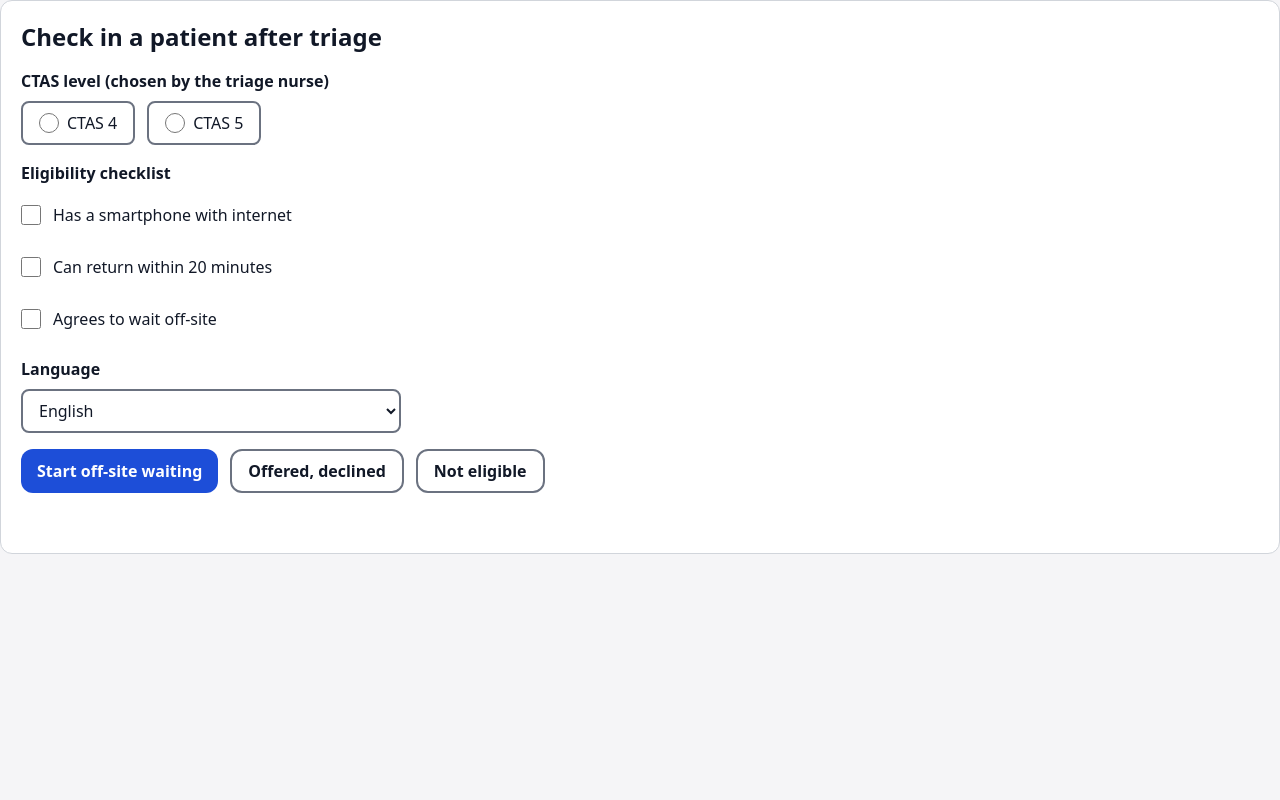
Scenario: CheckInPanel language after a check-in › sets the language back to English after a check-in saves, for the next patient
The width and height of the screenshot is (1280, 800).
Click the radio button labelled "CTAS 4" at [49, 123], box [39, 113, 59, 133]
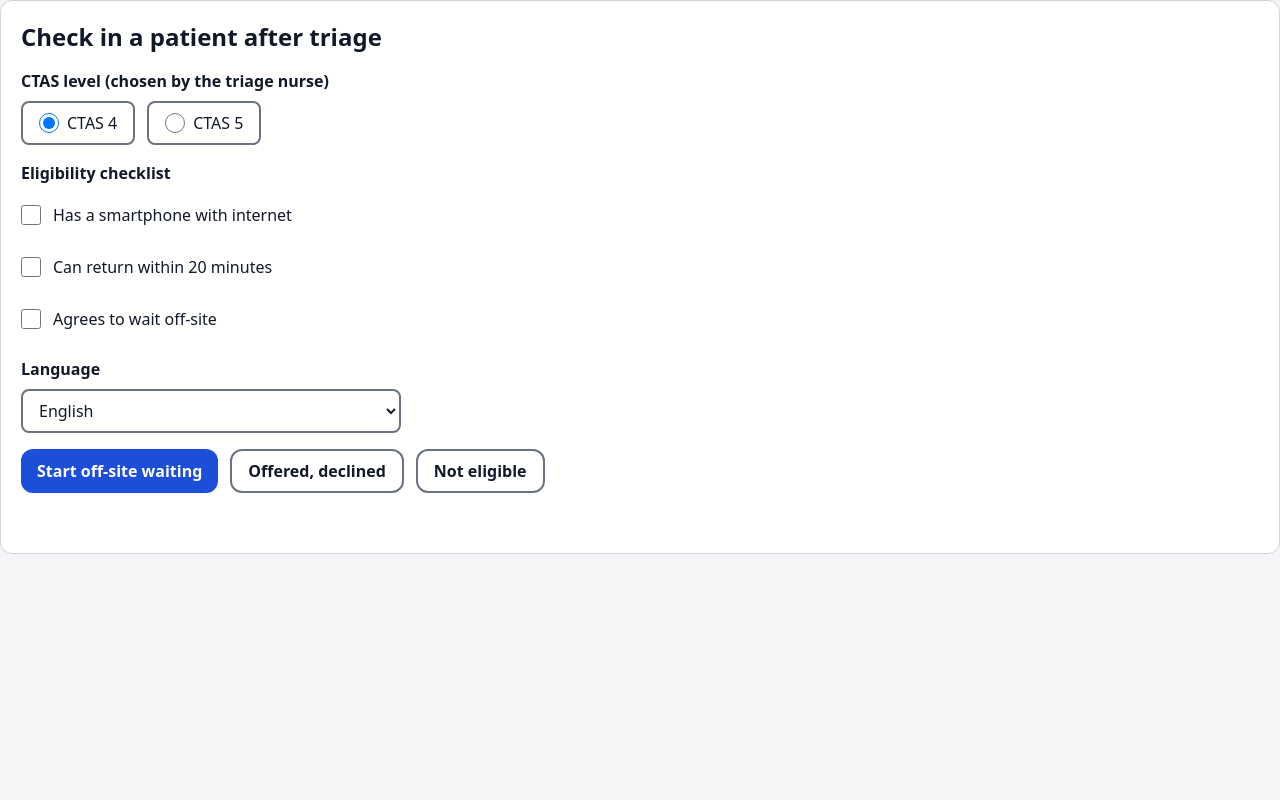
Click the checkbox labelled "Has a smartphone with internet" at [31, 215], box [21, 205, 41, 225]
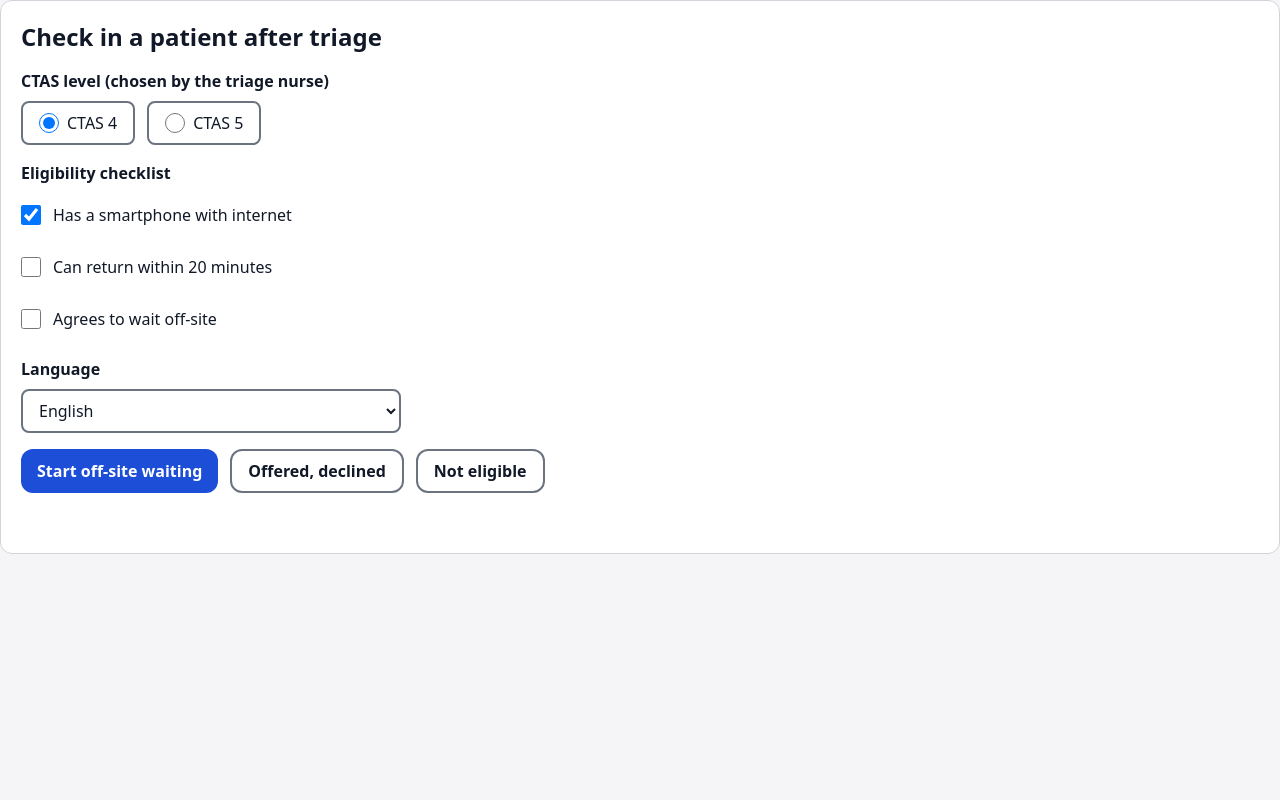
Click the checkbox labelled "Can return within 20 minutes" at [31, 267], box [21, 257, 41, 277]
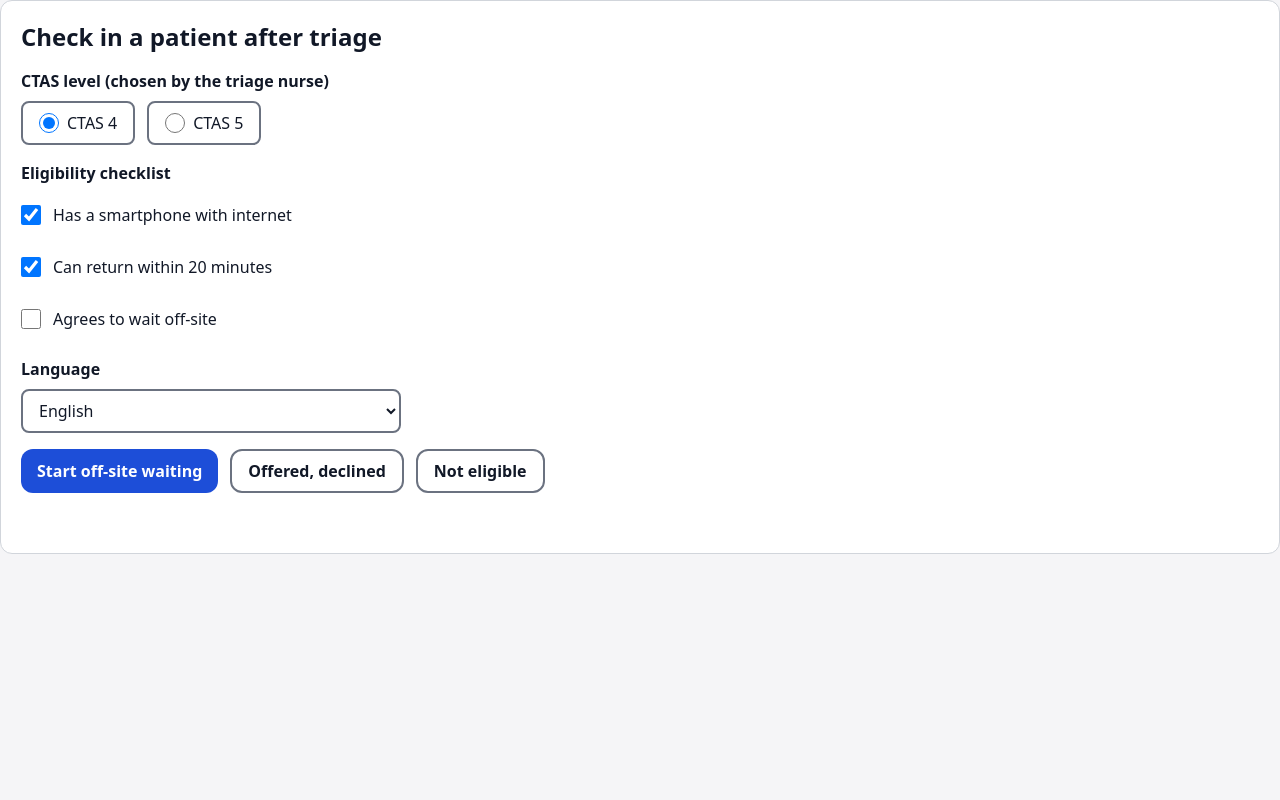
Click the checkbox labelled "Agrees to wait off-site" at [31, 319], box [21, 309, 41, 329]
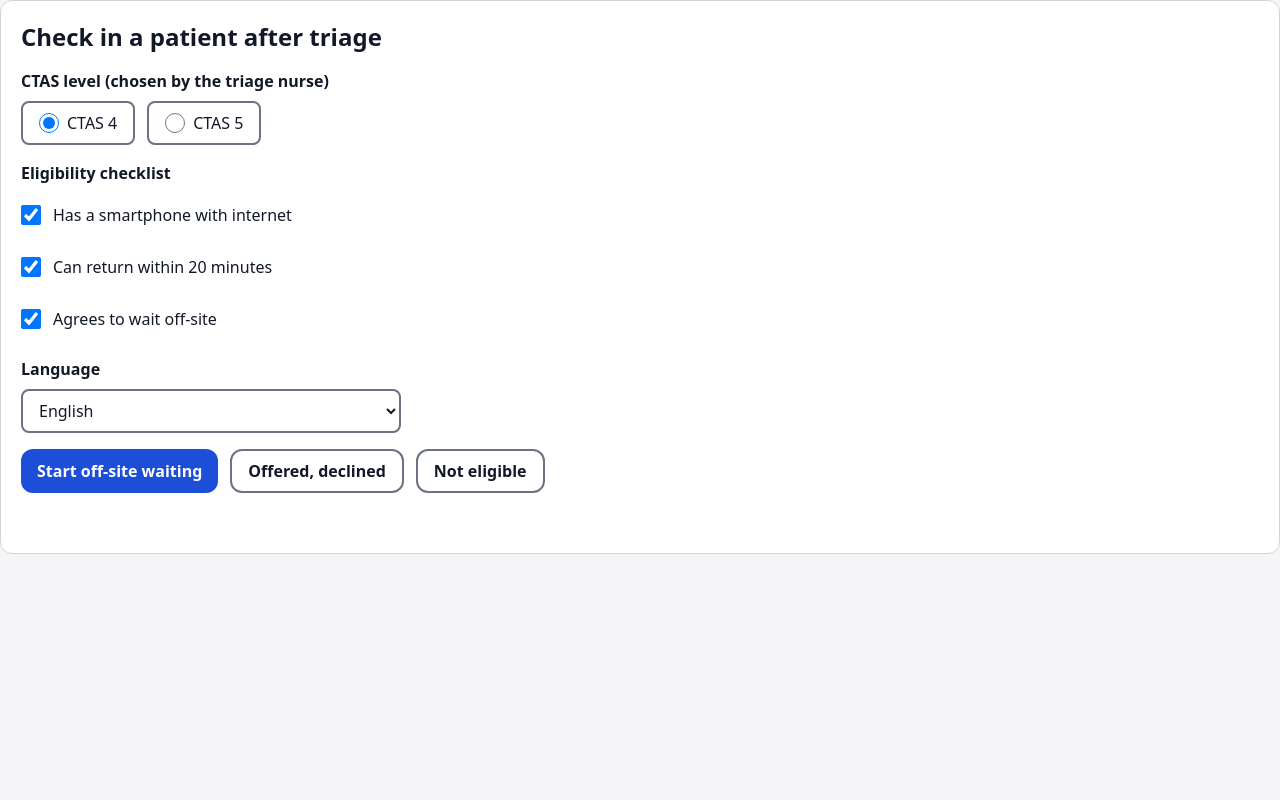
Select "Français (French), draft until checked" in the dropdown labelled "Language" at [211, 411], box [21, 389, 401, 433]
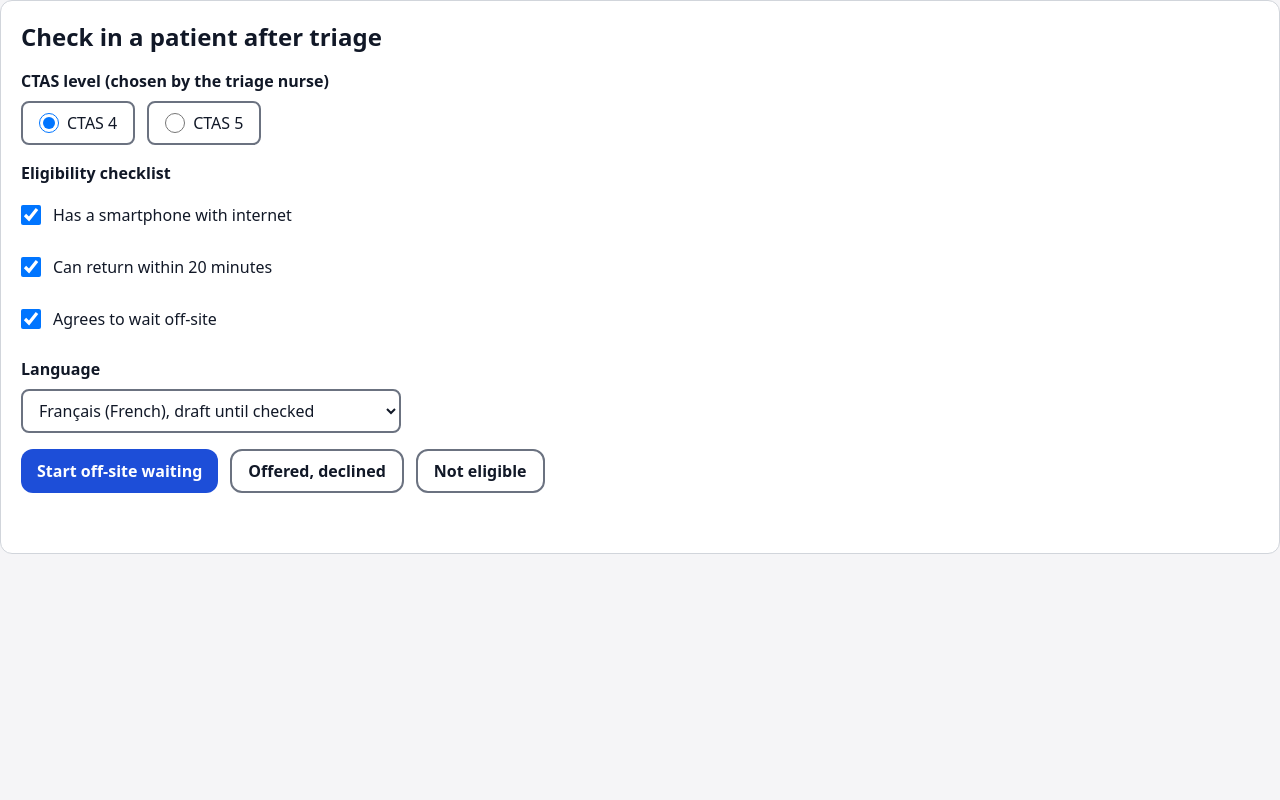
Click the button "Not eligible" at [480, 471], box [416, 449, 544, 493]
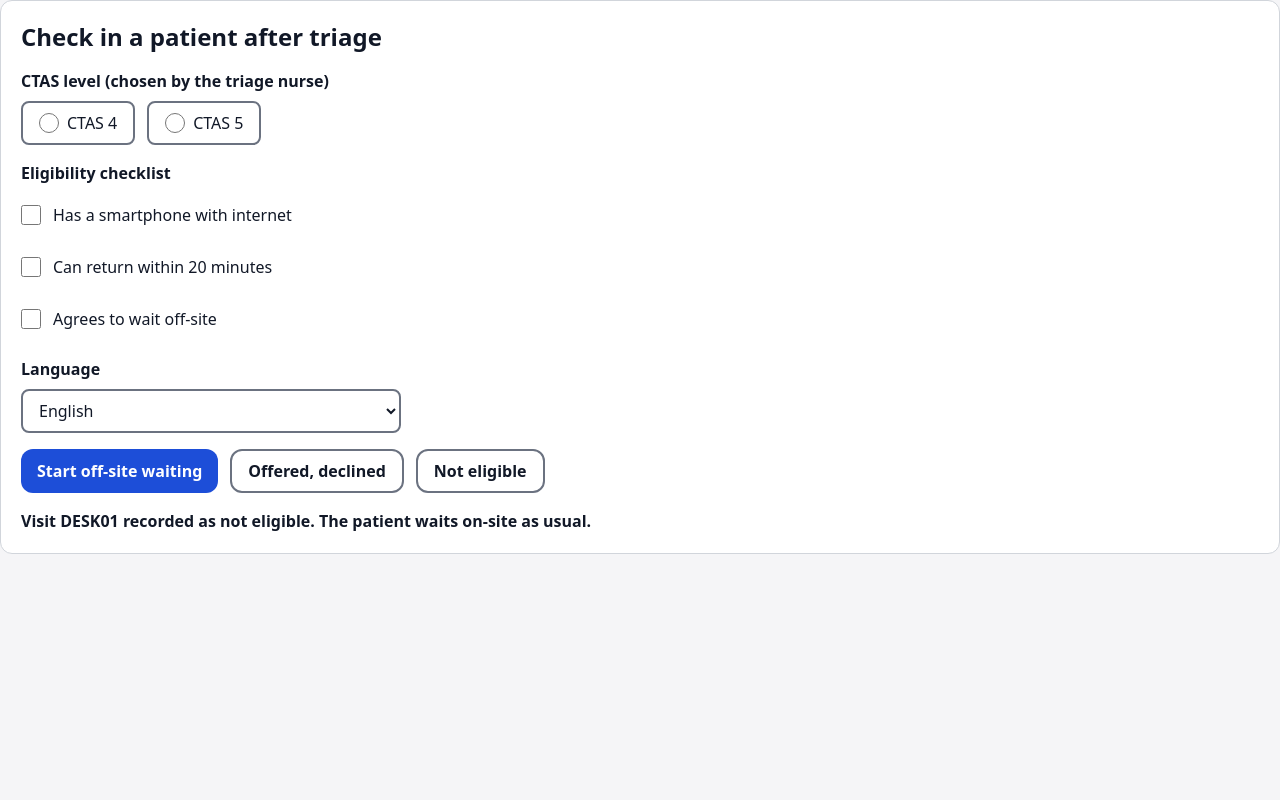
Check: the message "Visit DESK01 recorded as not eligible. The patient waits on-site as usual." is shown, box [21, 510, 591, 532]
